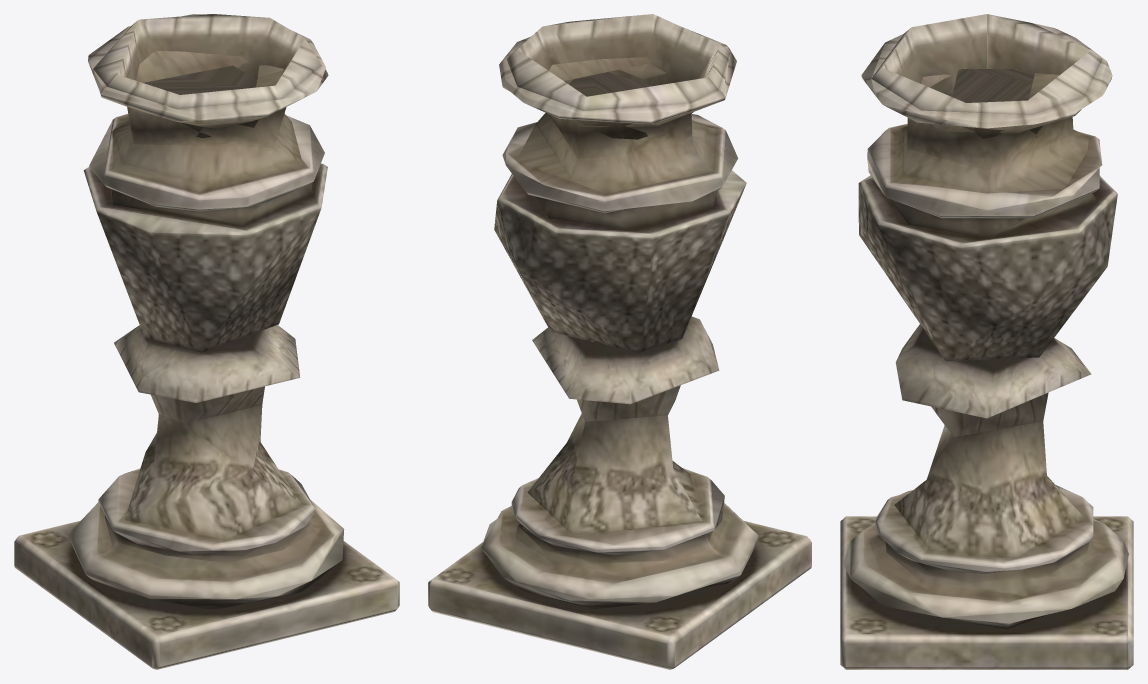
The model's file is bay-planter.lod0.glb.
3 renders of one model, left to right at view 1: azimuth 30°, elevation 25°; view 2: azimuth 150°, elevation 25°; view 3: azimuth 270°, elevation 25°, orthographic. The views are drawn at different scales.
Visible parts, largest first — view 1: vase_Flower_Pot__vase Flower Pot _0; view 2: vase_Flower_Pot__vase Flower Pot _0; view 3: vase_Flower_Pot__vase Flower Pot _0.
Boxes of the visible parts, left/top/right/bottom form: vase_Flower_Pot__vase Flower Pot _0: left=14, top=14, right=399, bottom=669; vase_Flower_Pot__vase Flower Pot _0: left=428, top=14, right=811, bottom=669; vase_Flower_Pot__vase Flower Pot _0: left=840, top=14, right=1133, bottom=669.
Bounding box in the file's own units: 0.4826 × 1 × 0.4826.
Materials: 1 (1 with a texture image).
